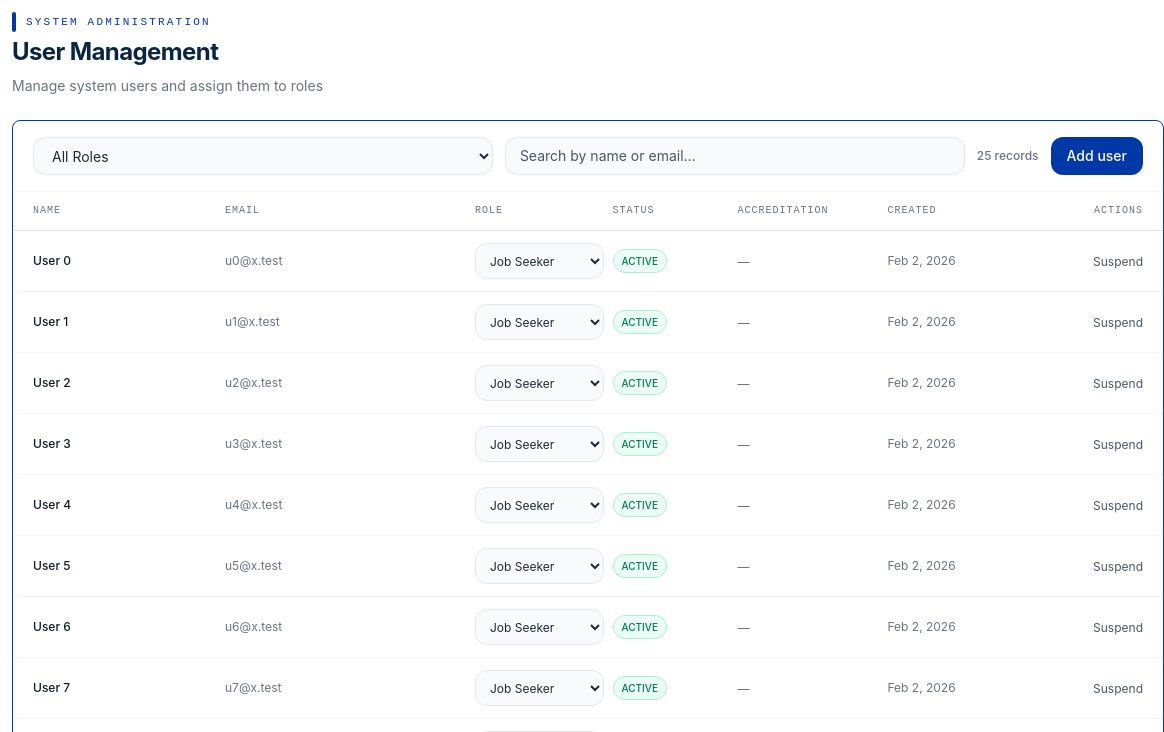
UserManagement pagination (C2) › finds a page-2 user by name through a server-side search
Expected: the text "Zephyrina Quimby" is not shown
Type "Zephyrina" into the field named "search users by name or email" at point(735, 156), box [505, 137, 965, 175]
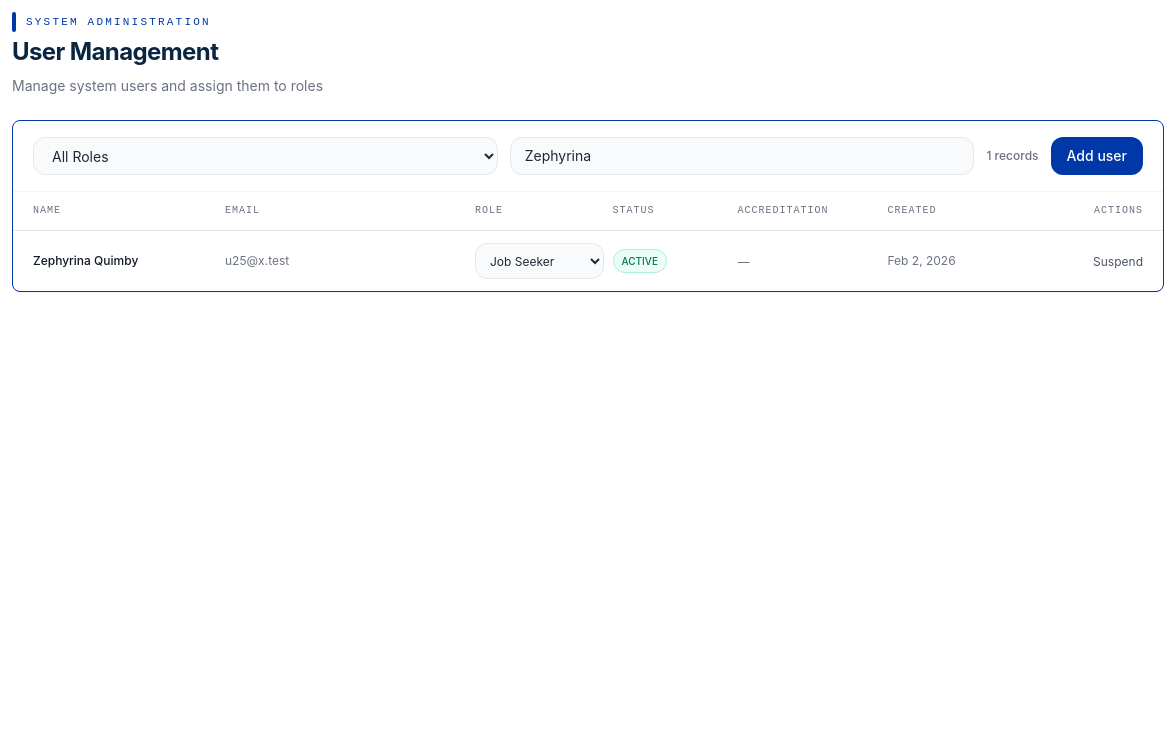
Expected: the text "Zephyrina Quimby" is shown, [13, 231, 213, 291]
